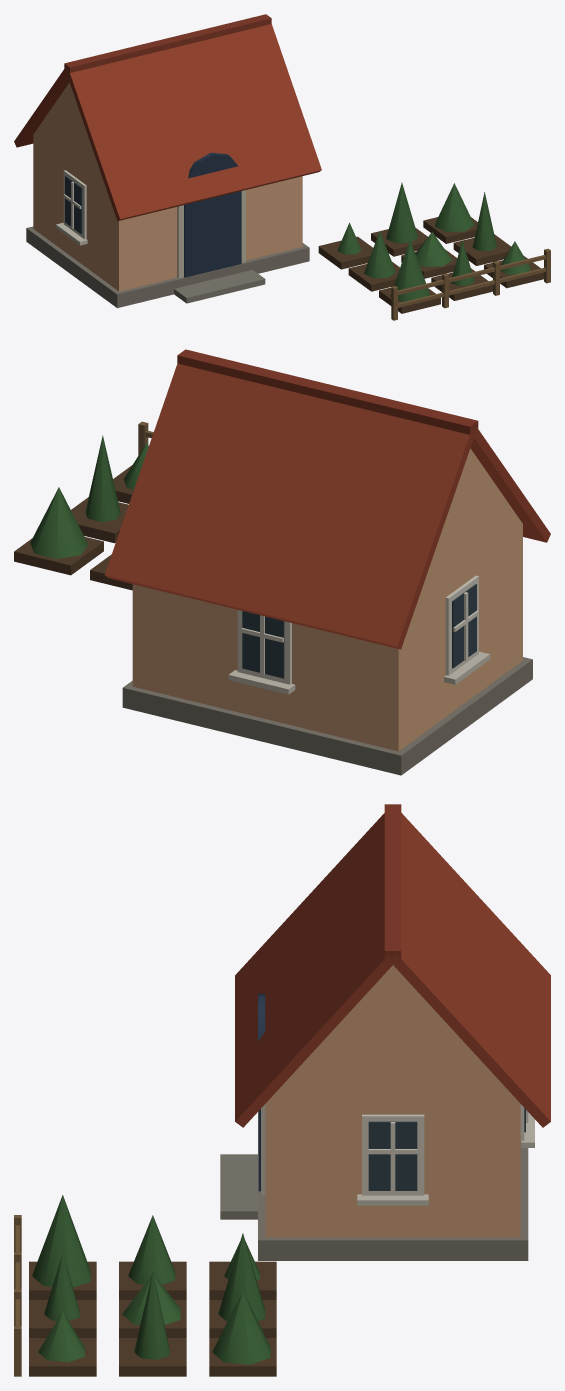
Rendered from procedural_forester@4.glb.
The picture shows the model from 3 angles, top to bottom: view 1: azimuth 30°, elevation 25°; view 2: azimuth 150°, elevation 25°; view 3: azimuth 270°, elevation 25°; orthographic projection. The views are drawn at different scales.
Parts seen in each view (by area): view 1: part_0; view 2: part_0; view 3: part_0.
Boxes of the visible parts, x1,y1,x2,y2 form: part_0: (14,14,550,320); part_0: (14,349,550,775); part_0: (14,804,550,1376).
Bounding box in the file's own units: 8.16 × 4.61 × 7.15.
